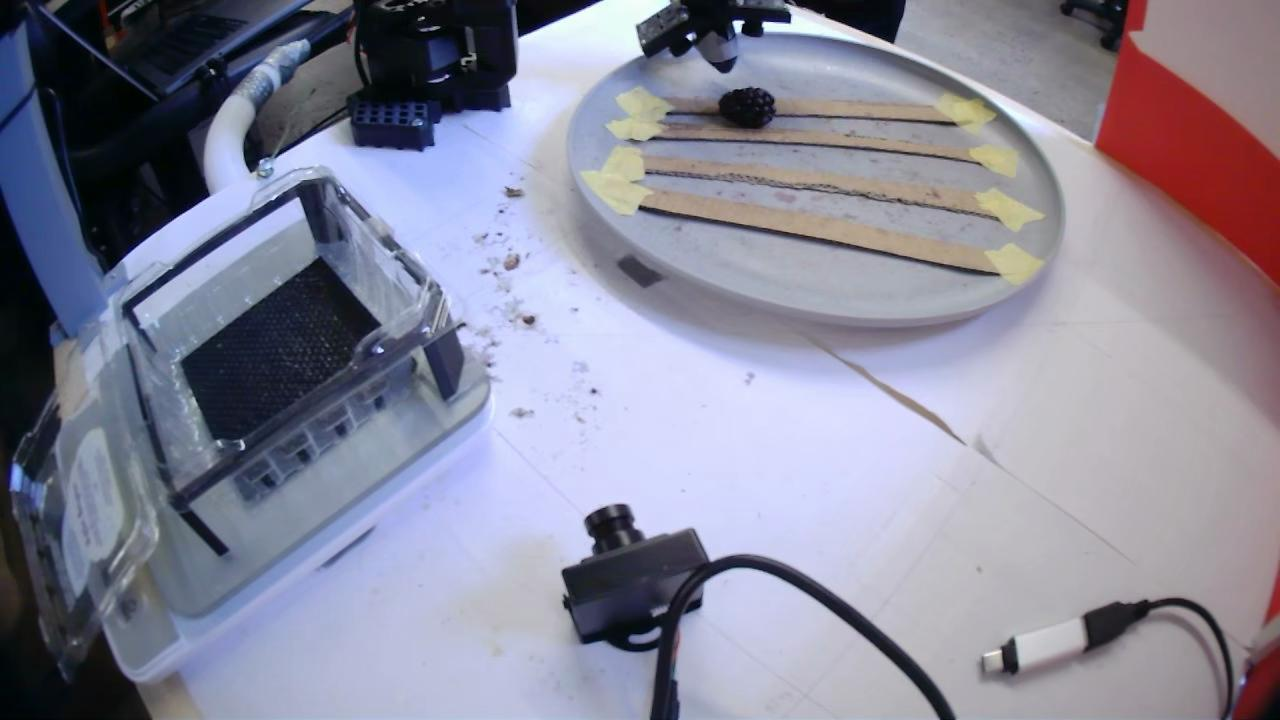berry: (719, 88, 775, 128)
